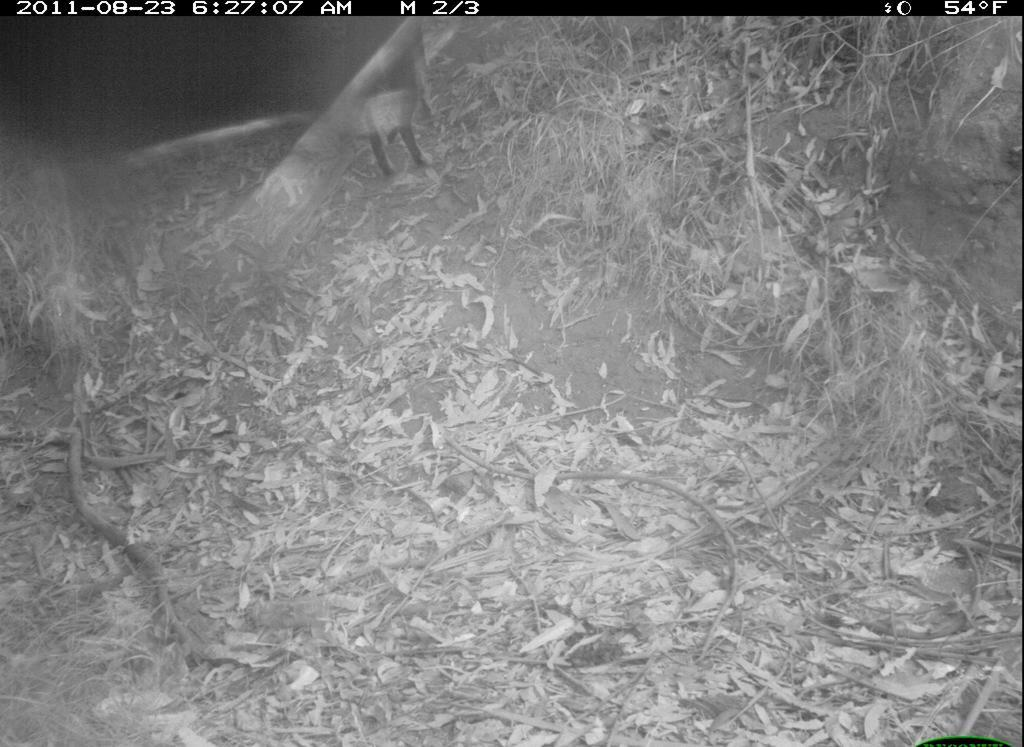dog: (319, 13, 455, 176)
